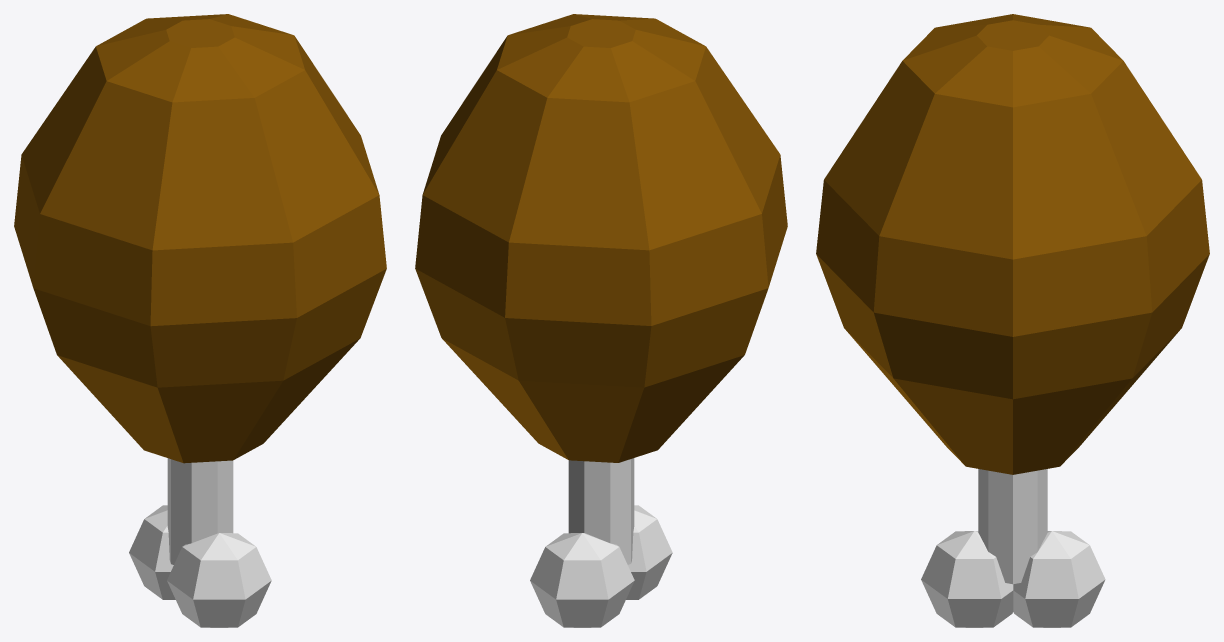
The model's file is potion8.glb.
3 renders of one model, left to right at view 1: azimuth 30°, elevation 25°; view 2: azimuth 150°, elevation 25°; view 3: azimuth 270°, elevation 25°, orthographic. The views are drawn at different scales.
Parts seen in each view (by area): view 1: Cylinder.015, Cylinder.014; view 2: Cylinder.015, Cylinder.014; view 3: Cylinder.015, Cylinder.014.
Part boxes in pixels (x1,y1,x2,y2): Cylinder.015: [14, 14, 386, 463]; Cylinder.014: [129, 458, 271, 627]; Cylinder.015: [415, 14, 787, 462]; Cylinder.014: [530, 458, 672, 627]; Cylinder.015: [816, 14, 1209, 474]; Cylinder.014: [921, 469, 1105, 627].
Size of the model in its own units: 1.28 by 2.13 by 1.28.
